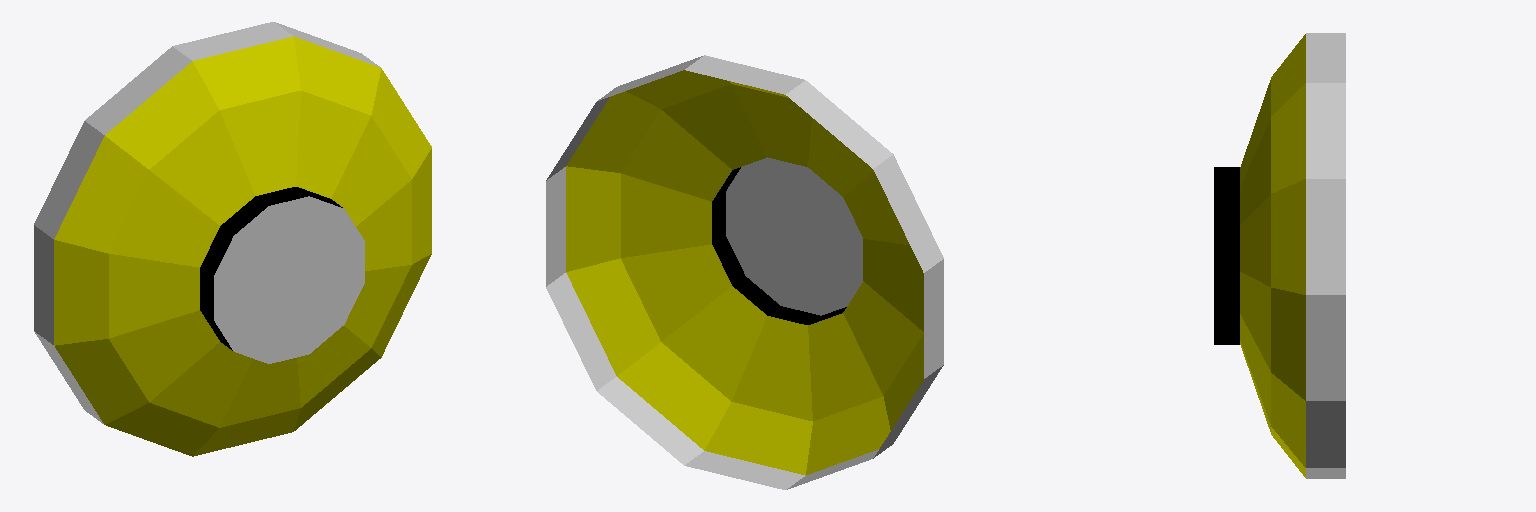
Rendered from Track2Button.obj.
The picture shows the model from 3 angles: view 1: azimuth 30°, elevation 25°; view 2: azimuth 150°, elevation 25°; view 3: azimuth 270°, elevation 25°; orthographic projection.
Parts seen in each view (by area): view 1: Circle_Circle; view 2: Circle_Circle; view 3: Circle_Circle.
Boxes of the visible parts, <box> form: Circle_Circle: <box>34,22,431,456</box>; Circle_Circle: <box>546,55,943,489</box>; Circle_Circle: <box>1214,33,1345,478</box>.
Bounding box in the file's own units: 0.9852 × 0.9852 × 0.2992.